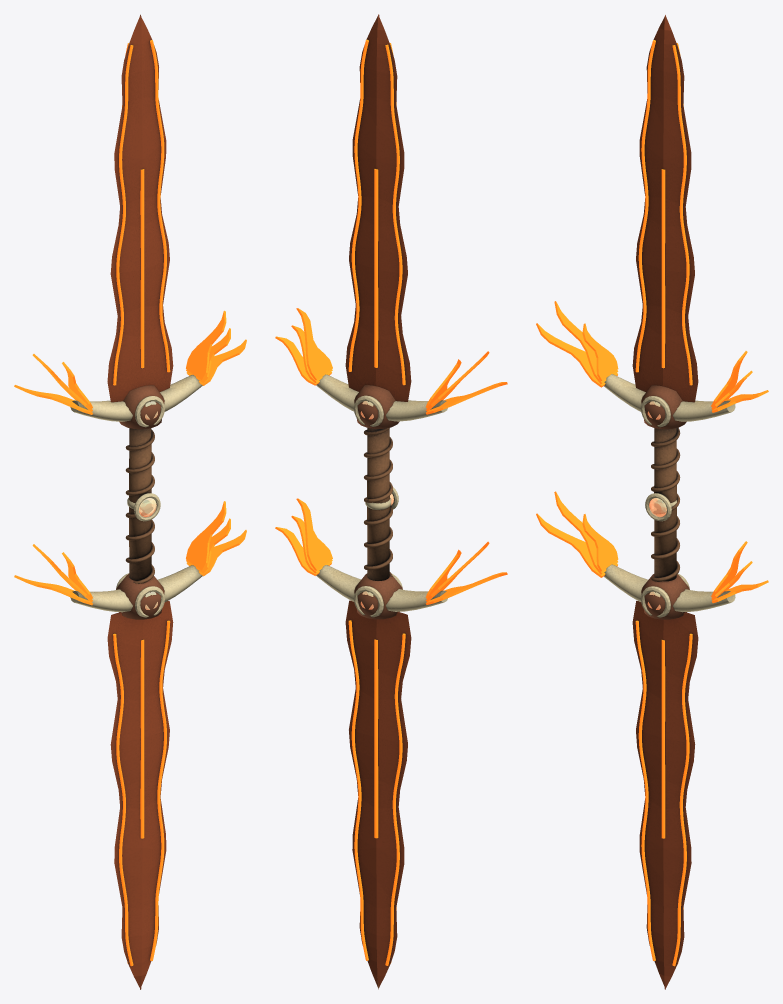
The model's file is arma_lend_espada_dupla_fogo.glb.
3 renders of one model, left to right at view 1: azimuth 30°, elevation 25°; view 2: azimuth 150°, elevation 25°; view 3: azimuth 330°, elevation 25°, orthographic.
Parts seen in each view (by area): view 1: arma_lend_espada_dupla_fogo, lamina_baixo_gume1b, lamina_cima_gume-1, lamina_baixo_gume-1b, lamina_cima_gume1, guarda_cima_ac12, guarda_baixo_ac12, lamina_baixo_runa1, lamina_cima_runa-1; view 2: arma_lend_espada_dupla_fogo, lamina_cima_gume-1b, lamina_baixo_gume1, lamina_baixo_gume-1, lamina_cima_gume1b, guarda_baixo_ac12, guarda_cima_ac12, lamina_cima_runa1, lamina_baixo_runa-1; view 3: arma_lend_espada_dupla_fogo, lamina_baixo_gume-1b, lamina_cima_gume1, lamina_cima_gume-1, lamina_baixo_gume1b, lamina_cima_runa-1, lamina_baixo_runa1, guarda_cima_ac-12, guarda_baixo_ac-12, guarda_baixo_ac-10, guarda_cima_ac-10, guarda_baixo_ac-11 (+1 smaller).
Boxes of the visible parts, <box> form: arma_lend_espada_dupla_fogo: <box>70,14,202,989</box>; lamina_baixo_gume1b: <box>150,620,170,960</box>; lamina_cima_gume-1: <box>113,45,133,385</box>; lamina_baixo_gume-1b: <box>113,633,133,966</box>; lamina_cima_gume1: <box>150,40,170,372</box>; guarda_cima_ac12: <box>186,310,226,380</box>; guarda_baixo_ac12: <box>186,501,226,570</box>; lamina_baixo_runa1: <box>140,639,144,838</box>; lamina_cima_runa-1: <box>140,169,144,368</box>; arma_lend_espada_dupla_fogo: <box>316,14,447,989</box>; lamina_cima_gume-1b: <box>385,44,405,385</box>; lamina_baixo_gume1: <box>348,620,368,960</box>; lamina_baixo_gume-1: <box>385,633,405,965</box>; lamina_cima_gume1b: <box>348,39,368,371</box>; guarda_baixo_ac12: <box>296,498,332,570</box>; guarda_cima_ac12: <box>296,308,332,380</box>; lamina_cima_runa1: <box>374,169,378,367</box>; lamina_baixo_runa-1: <box>374,639,378,838</box>; arma_lend_espada_dupla_fogo: <box>604,15,735,989</box>; lamina_baixo_gume-1b: <box>635,620,655,960</box>; lamina_cima_gume1: <box>672,45,692,385</box>; lamina_cima_gume-1: <box>635,40,655,372</box>; lamina_baixo_gume1b: <box>672,633,692,966</box>; lamina_cima_runa-1: <box>661,169,665,368</box>; lamina_baixo_runa1: <box>661,640,665,838</box>; guarda_cima_ac-12: <box>582,323,618,380</box>; guarda_baixo_ac-12: <box>582,514,618,571</box>; guarda_baixo_ac-10: <box>536,513,617,577</box>; guarda_cima_ac-10: <box>536,323,617,387</box>; guarda_baixo_ac-11: <box>554,491,617,574</box>.
Size of the model in its own units: 0.461 by 1.85 by 0.085.
30 materials, 1 textured.
